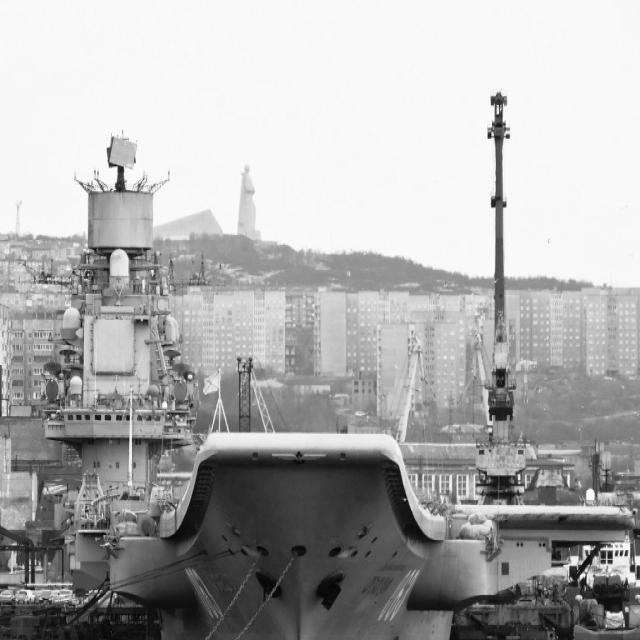Portanaves: (25, 120, 637, 640)
